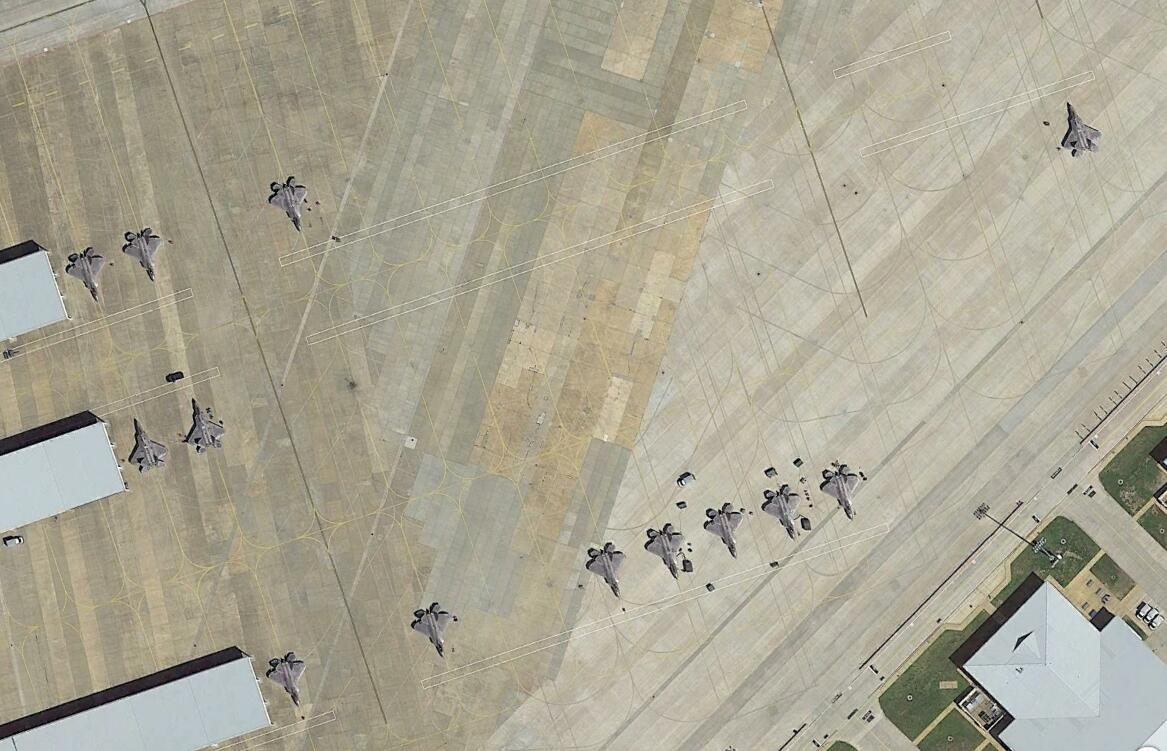A15: (761, 482, 806, 542), (121, 225, 166, 285), (702, 500, 746, 561), (821, 462, 866, 521), (583, 538, 627, 598), (267, 176, 311, 236), (411, 601, 454, 662), (644, 522, 688, 581), (127, 415, 172, 472), (64, 245, 106, 306), (1062, 101, 1104, 160), (267, 652, 308, 711), (186, 396, 224, 453)
